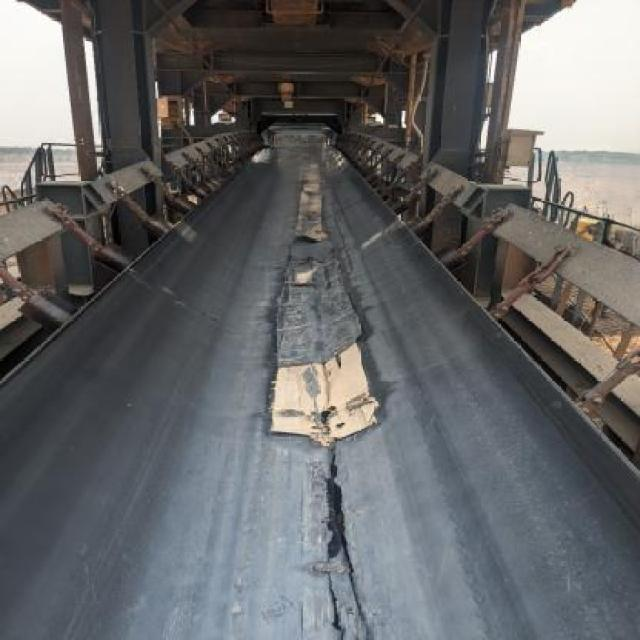Hole: (312, 405, 340, 432)
Tear: (311, 440, 378, 640)
